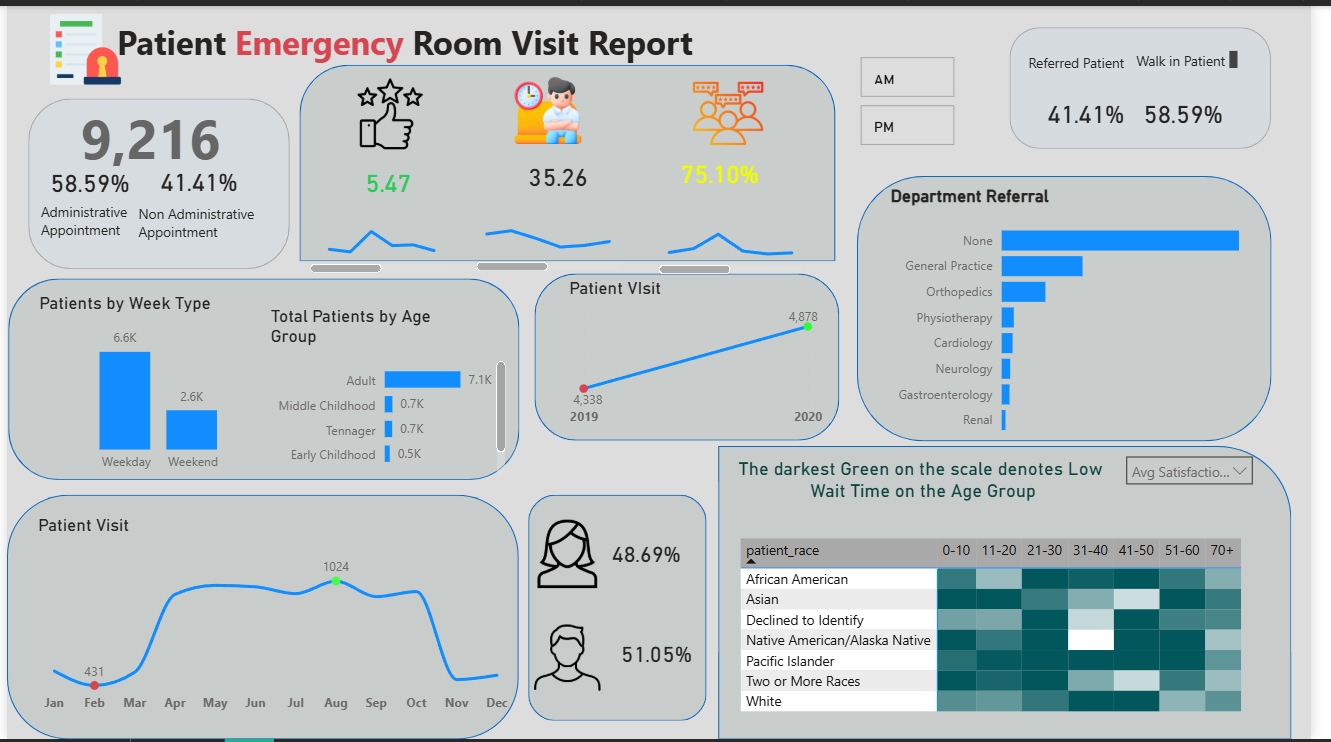

This screenshot's page, from the dashboard's own definition file:
{"tool":"powerbi","page":{"name":"Page 1","canvas":[1280,720],"ordinal":0},"visuals":[{"type":"shape","box":[983.9,20.6,256.6,119.4],"z":0},{"type":"shape","box":[0,480.3,502.2,240.1],"z":1000},{"type":"shape","box":[20.6,90.6,256.6,167.4],"z":2000},{"type":"shape","box":[511.5,480.2,174.9,222],"z":3000},{"type":"shape","box":[287.1,57.9,526,193],"z":4000},{"type":"shape","box":[834,166.8,406.8,260.4],"z":5000},{"type":"shape","box":[517.6,263,299.2,164.1],"z":6000},{"type":"shape","box":[698.5,432.2,562.6,288.2],"z":7000},{"type":"shape","box":[1.2,267.8,501.9,197.9],"z":7500},{"type":"card","fields":{"Values":["Measures (3).Total Patients"]},"box":[43.4,83.2,196.6,88.1],"z":8000},{"type":"card","title":"Avg Satisfaction","fields":{"Values":["Measures (3).Average Satisfaction Score"]},"box":[306,142.7,137.2,61.7],"z":10000},{"type":"card","title":"Avg Wait Time","fields":{"Values":["Measures (3).Average Wait Time"]},"box":[465.2,134.5,152.3,65.9],"z":11000},{"type":"pivotTable","fields":{"Values":["Measures (3).Average Satisfaction Score"],"Rows":["Hospital ER.patient_race"],"Columns":["Hospital ER.Age Bucket"]},"box":[714.9,517.3,525.6,189.4],"z":12000},{"type":"slicer","fields":{"Values":["Parameter.Parameter"]},"box":[1088,432,144,48],"z":13000},{"type":"clusteredBarChart","fields":{"Category":["Hospital ER.Age Group"],"Y":["Measures (3).Total Patients"]},"box":[254.6,294.4,240.1,171.3],"z":14000},{"type":"lineChart","title":"Patient Visit","fields":{"Category":["Date.Month"],"Y":["Measures (3).Total Patients","Measures (3).value Max_min_month"]},"box":[26.1,499.5,476.2,203.1],"z":15000},{"type":"advancedSlicerVisual","fields":{"Values":["Hospital ER.Moment"]},"box":[833.7,45.8,102.5,96.5],"z":16000},{"type":"lineChart","title":"Patient VIsit","fields":{"Category":["Date.Year"],"Y":["Measures (3).Total Patients"]},"box":[547.5,266.2,258,155.1],"z":17000},{"type":"card","fields":{"Values":["Measures (3).% UnRefered Patients"]},"box":[35,147.2,91.7,53.1],"z":18000},{"type":"card","fields":{"Values":["Measures (3).% Refered Patients"]},"box":[142.4,146,92.9,53.1],"z":19000},{"type":"card","fields":{"Values":["Measures (3).heatmap caption"]},"box":[708.1,430.9,382.8,68.6],"z":20000},{"type":"textbox","box":[997.6,41.2,118,34.3],"z":21000},{"type":"textbox","box":[28.8,188,120.8,63.1],"z":22000},{"type":"textbox","box":[123.5,190.7,148.2,75.5],"z":23000},{"type":"card","fields":{"Values":["Measures (3).% Refered Patients"]},"box":[997.6,83.7,123.5,43.9],"z":24000},{"type":"textbox","box":[1103.3,39.8,109.8,34.3],"z":25000},{"type":"card","fields":{"Values":["Measures (3).% UnRefered Patients"]},"box":[1103.3,83.7,102.9,43.9],"z":26000},{"type":"clusteredColumnChart","title":"Patients by Week Type","fields":{"Y":["Measures (3).Total Patients"],"Category":["Date.Week Type"]},"box":[26.5,281.1,246.1,184.6],"z":27000},{"type":"card","fields":{"Values":["Measures (3).% Female Patient"]},"box":[579.1,507.7,97.4,60.4],"z":28000},{"type":"card","fields":{"Values":["Measures (3).% Male Patient"]},"box":[588.7,612,97.4,48],"z":29000},{"type":"card","title":"Service Not Rated","fields":{"Values":["Measures (3).% No Rating"]},"box":[627.1,129,145.5,71.4],"z":30000},{"type":"lineChart","fields":{"Category":["Date.Month"],"Y":["Measures (3).Average Satisfaction Score"]},"box":[293.7,204.5,149.6,61.7],"z":31000},{"type":"lineChart","fields":{"Category":["Date.Month"],"Y":["Measures (3).Average Wait Time"]},"box":[456.2,204.3,149.8,61.3],"z":32000},{"type":"textbox","box":[102.9,8.2,595.5,57.6],"z":33000},{"type":"lineChart","fields":{"Category":["Date.Month"],"Y":["Measures (3).% No Rating"]},"box":[635.3,205.8,149.6,61.7],"z":34000},{"type":"image","box":[511.8,499.5,76.8,76.8],"z":35000},{"type":"image","box":[511.8,601,76.8,76.8],"z":36000},{"type":"image","box":[28.8,0,97.4,85.1],"z":37000},{"type":"image","box":[332.1,65.9,86.4,79.6],"z":38000},{"type":"image","box":[481.6,64.5,97.4,75.5],"z":39000},{"type":"image","box":[666.9,64.5,81,81],"z":40000},{"type":"clusteredBarChart","title":"Department Referral","fields":{"Category":["Hospital ER.department_referral"],"Y":["Measures (3).Total Patients"]},"box":[863,177,377.9,255.3],"z":41000}]}

Visuals, with their boxes in screenshot pixels (x1, y1, x2, y2), scaled from the page's 1280x720 canvas onto the 1331x742 screenshot:
shape: x1=1023, y1=21, x2=1290, y2=144
shape: x1=0, y1=495, x2=522, y2=741
shape: x1=21, y1=93, x2=288, y2=266
shape: x1=532, y1=495, x2=714, y2=724
shape: x1=299, y1=60, x2=845, y2=259
shape: x1=867, y1=172, x2=1290, y2=440
shape: x1=538, y1=271, x2=849, y2=440
shape: x1=726, y1=445, x2=1311, y2=741
shape: x1=1, y1=276, x2=523, y2=480
card - Measures (3).Total Patients: x1=45, y1=86, x2=250, y2=177
"Avg Satisfaction" card: x1=318, y1=147, x2=461, y2=211
"Avg Wait Time" card: x1=484, y1=139, x2=642, y2=207
pivotTable - Measures (3).Average Satisfaction Score x Hospital ER.patient_race: x1=743, y1=533, x2=1290, y2=728
slicer - Parameter.Parameter: x1=1131, y1=445, x2=1281, y2=495
clusteredBarChart - Hospital ER.Age Group x Measures (3).Total Patients: x1=265, y1=303, x2=514, y2=480
"Patient Visit" lineChart: x1=27, y1=515, x2=522, y2=724
advancedSlicerVisual - Hospital ER.Moment: x1=867, y1=47, x2=974, y2=147
"Patient VIsit" lineChart: x1=569, y1=274, x2=838, y2=434
card - Measures (3).% UnRefered Patients: x1=36, y1=152, x2=132, y2=206
card - Measures (3).% Refered Patients: x1=148, y1=150, x2=245, y2=205
card - Measures (3).heatmap caption: x1=736, y1=444, x2=1134, y2=515
textbox: x1=1037, y1=42, x2=1160, y2=78
textbox: x1=30, y1=194, x2=156, y2=259
textbox: x1=128, y1=197, x2=283, y2=274
card - Measures (3).% Refered Patients: x1=1037, y1=86, x2=1166, y2=131
textbox: x1=1147, y1=41, x2=1261, y2=76
card - Measures (3).% UnRefered Patients: x1=1147, y1=86, x2=1254, y2=131
"Patients by Week Type" clusteredColumnChart: x1=28, y1=290, x2=283, y2=480
card - Measures (3).% Female Patient: x1=602, y1=523, x2=703, y2=585
card - Measures (3).% Male Patient: x1=612, y1=631, x2=713, y2=680
"Service Not Rated" card: x1=652, y1=133, x2=803, y2=207
lineChart - Date.Month x Measures (3).Average Satisfaction Score: x1=305, y1=211, x2=461, y2=274
lineChart - Date.Month x Measures (3).Average Wait Time: x1=474, y1=211, x2=630, y2=274
textbox: x1=107, y1=8, x2=726, y2=68
lineChart - Date.Month x Measures (3).% No Rating: x1=661, y1=212, x2=816, y2=276
image: x1=532, y1=515, x2=612, y2=594
image: x1=532, y1=619, x2=612, y2=699
image: x1=30, y1=0, x2=131, y2=88
image: x1=345, y1=68, x2=435, y2=150
image: x1=501, y1=66, x2=602, y2=144
image: x1=693, y1=66, x2=778, y2=150
"Department Referral" clusteredBarChart: x1=897, y1=182, x2=1290, y2=446
